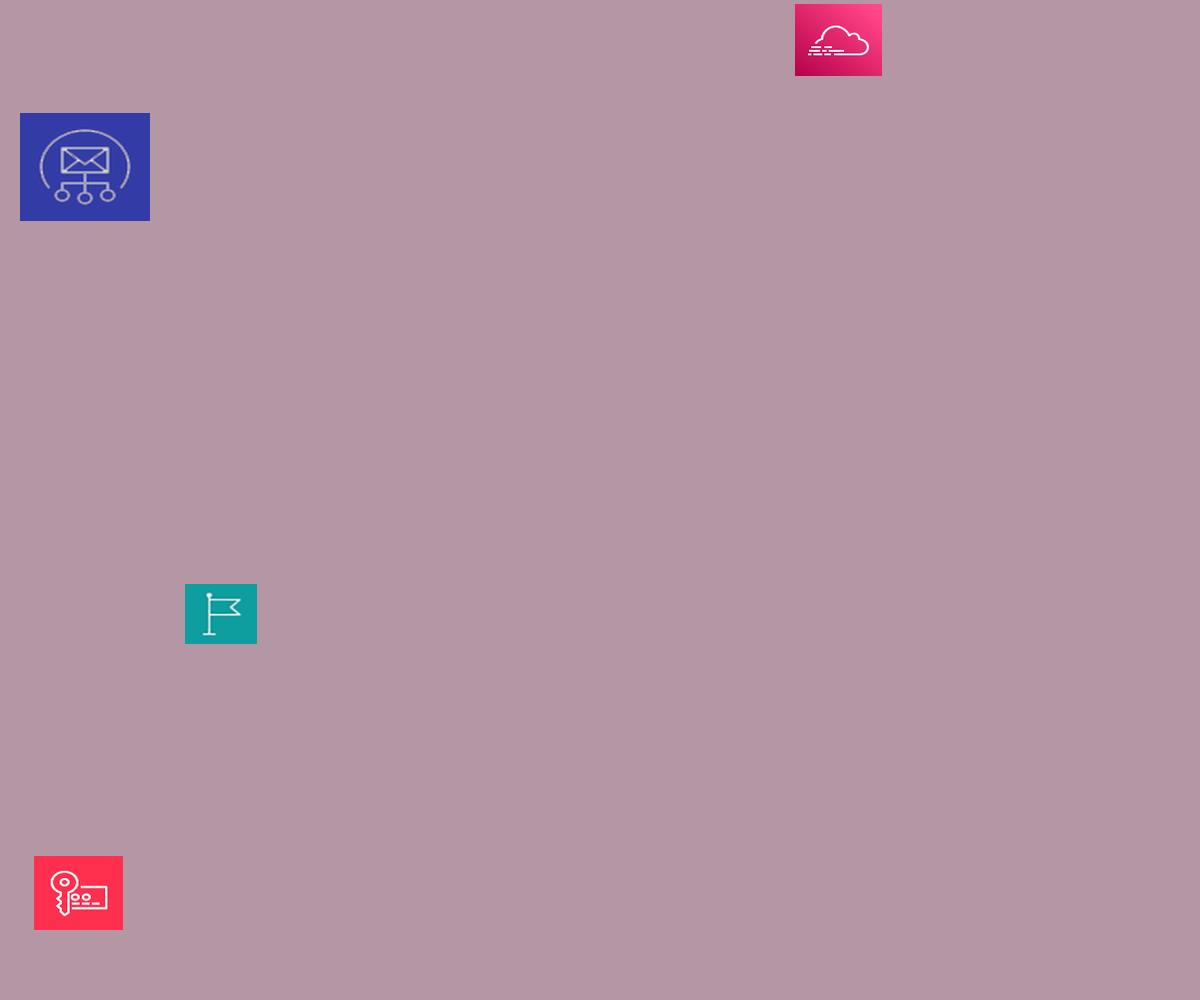AWS-CloudTrail: (795, 4, 882, 76)
AWS-Key-Management-Service: (34, 856, 123, 930)
AWS-Region: (185, 584, 257, 644)
AWS-Simple-Email-Service: (20, 113, 150, 221)
